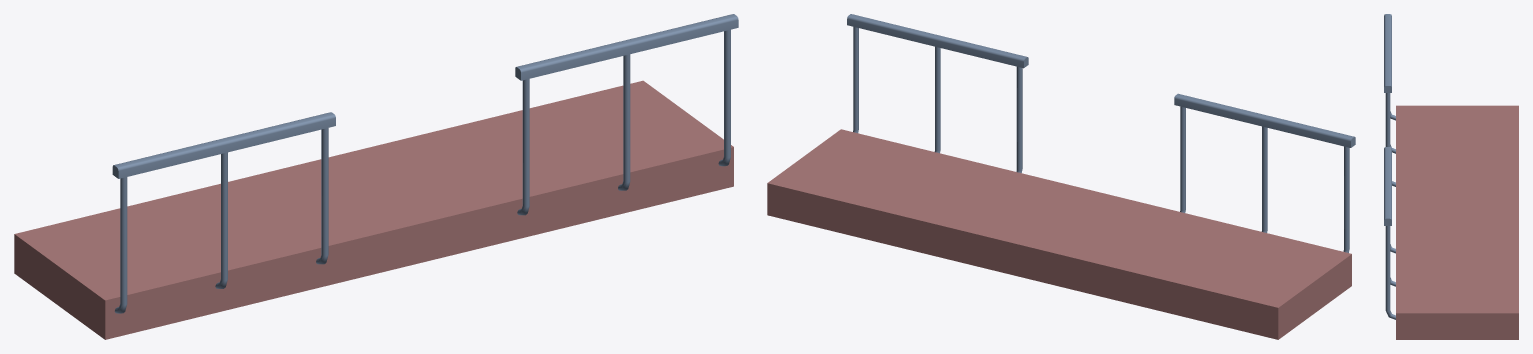
File: SM_StairWell_Infinite_01.fbx
3 views of the same model, side by side, from view 1: azimuth 30°, elevation 25°; view 2: azimuth 150°, elevation 25°; view 3: azimuth 270°, elevation 25° (orthographic). The views are drawn at different scales.
Visible parts, largest first — view 1: StairWell_Infinite_01; view 2: StairWell_Infinite_01; view 3: StairWell_Infinite_01.
Boxes of the visible parts, left/top/right/bottom form: StairWell_Infinite_01: left=14, top=14, right=738, bottom=339; StairWell_Infinite_01: left=767, top=14, right=1355, bottom=339; StairWell_Infinite_01: left=1384, top=14, right=1518, bottom=339.
Size of the model in its own units: 500 by 134 by 137.
